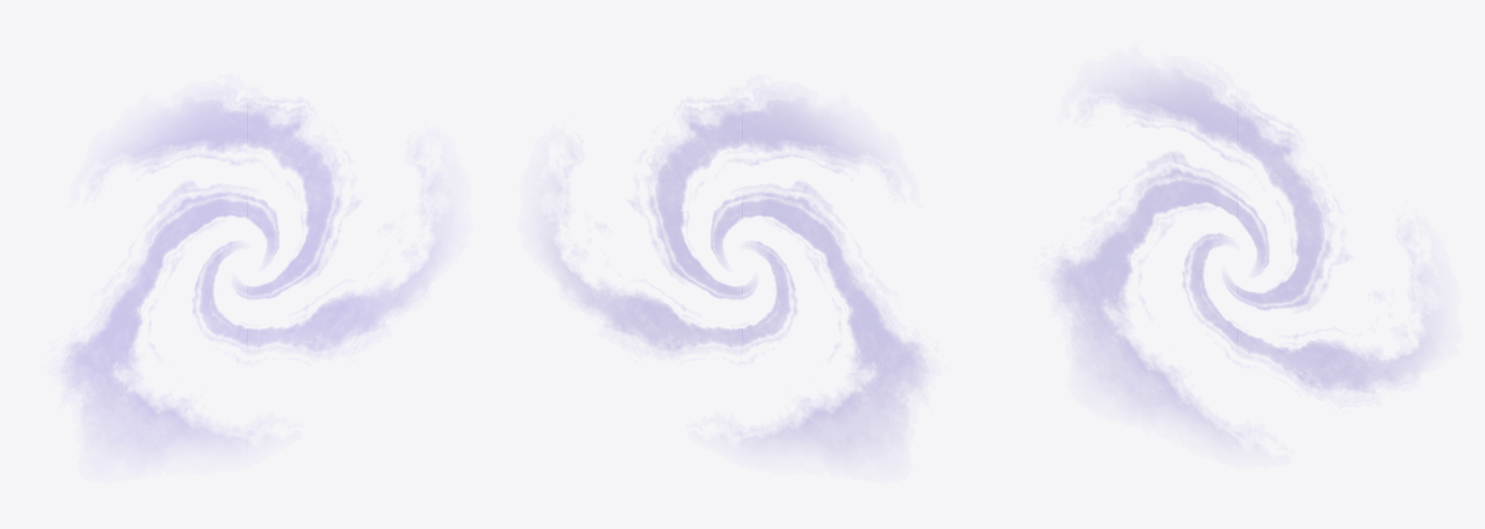
The model's file is sky_swirl_a.glb.
The picture shows the model from 3 angles, left to right: view 1: azimuth 30°, elevation 25°; view 2: azimuth 150°, elevation 25°; view 3: azimuth 330°, elevation 25°; orthographic projection.
Visible parts, largest first — view 1: sky_swirl_a; view 2: sky_swirl_a; view 3: sky_swirl_a.
Part boxes in pixels (x1,y1,x2,y2): sky_swirl_a: [62, 99, 441, 453]; sky_swirl_a: [548, 99, 927, 453]; sky_swirl_a: [1052, 74, 1431, 444].
Bounding box in the file's own units: 2 × 2 × 0.
1 material, 1 textured.
